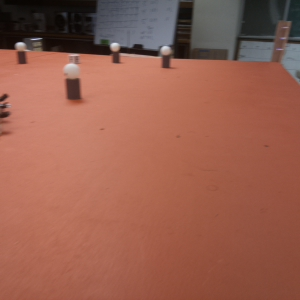obstacle: (63, 63, 83, 102), (14, 41, 27, 65), (110, 42, 121, 65), (161, 44, 171, 68)
side: (1, 91, 11, 124)
